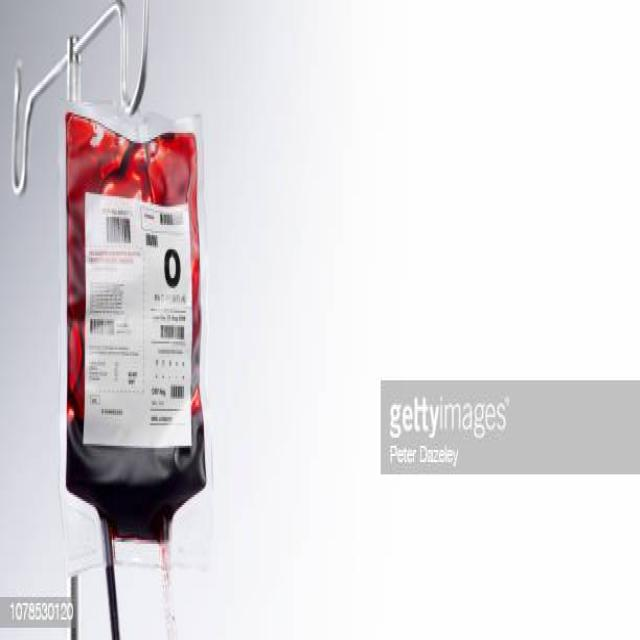B3: (47, 90, 224, 584)
